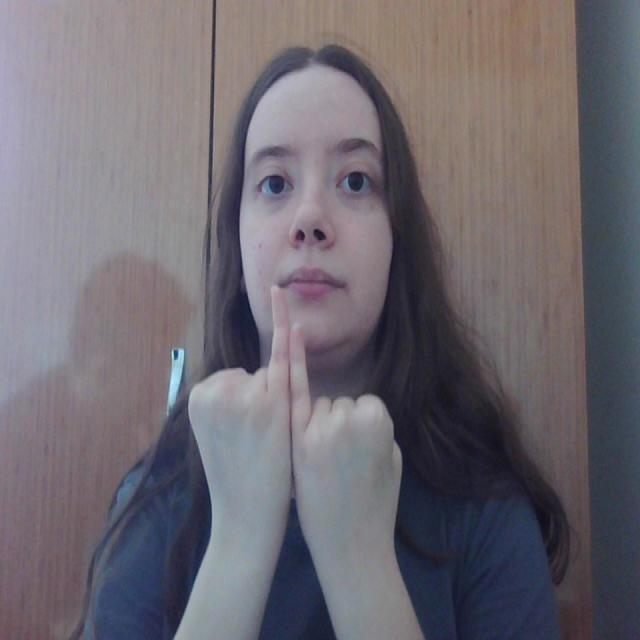Kardes: (184, 281, 404, 555)
